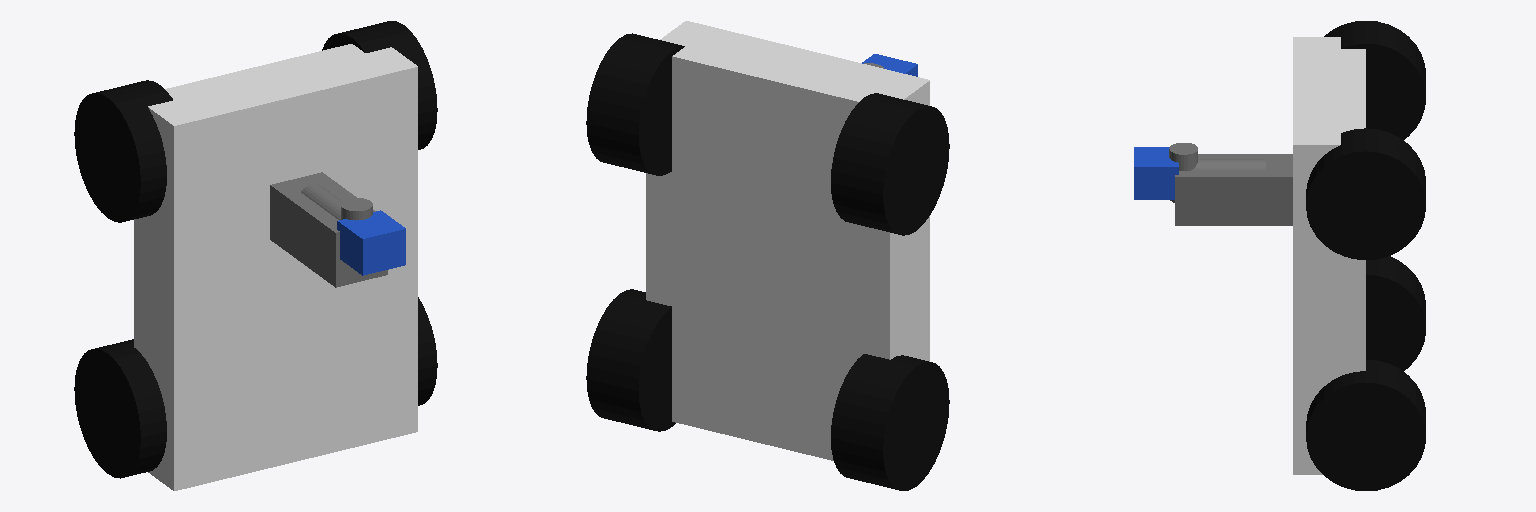
The robot description file, URDF, robot "picar_tracking":
<?xml version="1.0"?>
<!--
  picar_tracking.urdf  (V3)
  URDF for live RViz visualization.  Root frame is 'car_base', published by
  tf_bridge as 'world -> car_base'.  Pan and tilt are revolute joints; their
  positions come from /joint_states published by tf_bridge each frame.

  Coordinate convention (all frames, including car_base):
    +X = image right
    +Y = image down  (OpenCV / pupil-apriltags camera convention)
    +Z = optical axis (forward, toward tags)

  Physical kinematic chain (parent -> child):
    car_base (chassis level)
      -> pan_joint  (revolute, Y-axis, yaw / pan)    height ~6 cm above chassis
      -> tilt_joint (revolute, X-axis, pitch / tilt)  height ~2 cm above pan
      -> camera     (fixed, camera optical frame)      height ~1.5 cm above tilt

  Joint offsets are approximate.  Each is marked with TUNE and should be
  verified against physical measurements and/or compared with RViz after a
  live-pan test (car_base world position should remain stable as servos move).
-->
<robot name="picar_tracking">

  <material name="picar_white">
    <color rgba="0.9 0.9 0.9 1.0"/>
  </material>
  <material name="picar_black">
    <color rgba="0.1 0.1 0.1 1.0"/>
  </material>
  <material name="picar_gray">
    <color rgba="0.5 0.5 0.5 1.0"/>
  </material>
  <material name="picar_blue">
    <color rgba="0.2 0.4 0.85 0.85"/>
  </material>

  <!-- ROOT: car body frame — published by tf_bridge as 'world -> car_base'. -->
  <!-- No visual here; chassis box is a separate child link.                 -->
  <link name="car_base"/>

  <!-- Pan servo link — visualised as a small horizontal cylinder -->
  <link name="pan_link">
    <visual>
      <origin xyz="0 0 0" rpy="1.5708 0 0"/>
      <geometry>
        <cylinder length="0.05" radius="0.008"/>
      </geometry>
      <material name="picar_gray"/>
    </visual>
  </link>
  <!--
    TUNE: pan servo is approximately 6 cm above car_base (-Y = up in camera
    convention).  Adjust xyz y-value after visual inspection in RViz.
  -->
  <joint name="pan_joint" type="revolute">
    <parent link="car_base"/>
    <child link="pan_link"/>
    <origin xyz="0.0 -0.060 0.0" rpy="0 0 0"/>
    <axis xyz="0 1 0"/>
    <limit lower="-1.5708" upper="1.5708" effort="1.0" velocity="1.0"/>
  </joint>

  <!-- Tilt servo link — visualised as a small vertical cylinder -->
  <link name="tilt_link">
    <visual>
      <origin xyz="0 0 0" rpy="0 0 0"/>
      <geometry>
        <cylinder length="0.03" radius="0.008"/>
      </geometry>
      <material name="picar_gray"/>
    </visual>
  </link>
  <!-- TUNE: tilt servo is approximately 2 cm above pan_link. -->
  <joint name="tilt_joint" type="revolute">
    <parent link="pan_link"/>
    <child link="tilt_link"/>
    <origin xyz="0.0 -0.020 0.0" rpy="0 0 0"/>
    <axis xyz="1 0 0"/>
    <limit lower="-0.6109" upper="0.6109" effort="1.0" velocity="1.0"/>
  </joint>

  <!-- Camera optical frame — matches tf_bridge 'camera' TF convention.      -->
  <!-- Small blue box at the camera lens position.                            -->
  <link name="camera">
    <visual>
      <origin xyz="0 0 0" rpy="0 0 0"/>
      <geometry>
        <box size="0.025 0.025 0.02"/>
      </geometry>
      <material name="picar_blue"/>
    </visual>
  </link>
  <!-- TUNE: camera lens is approximately 1.5 cm above tilt_link. -->
  <joint name="camera_optical_joint" type="fixed">
    <parent link="tilt_link"/>
    <child link="camera"/>
    <origin xyz="0.0 -0.015 0.0" rpy="0 0 0"/>
  </joint>

  <!-- Camera pan/tilt mount column — purely visual, child of camera. -->
  <link name="camera_mount">
    <visual>
      <origin xyz="0 0 0" rpy="0 0 0"/>
      <geometry>
        <box size="0.03 0.07 0.03"/>
      </geometry>
      <material name="picar_gray"/>
    </visual>
  </link>
  <joint name="camera_to_mount" type="fixed">
    <parent link="camera"/>
    <child link="camera_mount"/>
    <!-- column is below (+Y=down) and slightly behind (-Z) the camera lens -->
    <origin xyz="0.0 0.045 -0.01" rpy="0 0 0"/>
  </joint>

  <!-- Car chassis — 14 cm wide, 4 cm tall, 20 cm long (camera convention). -->
  <link name="base_link">
    <visual>
      <origin xyz="0 0 0" rpy="0 0 0"/>
      <geometry>
        <box size="0.14 0.04 0.20"/>
      </geometry>
      <material name="picar_white"/>
    </visual>
  </link>
  <!--
    TUNE: chassis centre is 5 cm behind car_base along the optical axis (-Z
    offset).  The Y offset keeps chassis box at approximately car_base height
    (no vertical offset since car_base is defined at chassis-top level).
    Adjust after visual inspection in RViz.
  -->
  <joint name="car_base_to_chassis" type="fixed">
    <parent link="car_base"/>
    <child link="base_link"/>
    <origin xyz="0.0 0.0 -0.05" rpy="0 0 0"/>
  </joint>

  <!-- Front left wheel -->
  <link name="front_left_wheel">
    <visual>
      <origin xyz="0 0 0" rpy="0 1.5708 0"/>
      <geometry>
        <cylinder length="0.03" radius="0.033"/>
      </geometry>
      <material name="picar_black"/>
    </visual>
  </link>
  <joint name="chassis_to_fl_wheel" type="fixed">
    <parent link="base_link"/>
    <child link="front_left_wheel"/>
    <origin xyz="-0.07 0.02 0.07" rpy="0 0 0"/>
  </joint>

  <!-- Front right wheel -->
  <link name="front_right_wheel">
    <visual>
      <origin xyz="0 0 0" rpy="0 1.5708 0"/>
      <geometry>
        <cylinder length="0.03" radius="0.033"/>
      </geometry>
      <material name="picar_black"/>
    </visual>
  </link>
  <joint name="chassis_to_fr_wheel" type="fixed">
    <parent link="base_link"/>
    <child link="front_right_wheel"/>
    <origin xyz="0.07 0.02 0.07" rpy="0 0 0"/>
  </joint>

  <!-- Rear left wheel -->
  <link name="rear_left_wheel">
    <visual>
      <origin xyz="0 0 0" rpy="0 1.5708 0"/>
      <geometry>
        <cylinder length="0.03" radius="0.033"/>
      </geometry>
      <material name="picar_black"/>
    </visual>
  </link>
  <joint name="chassis_to_rl_wheel" type="fixed">
    <parent link="base_link"/>
    <child link="rear_left_wheel"/>
    <origin xyz="-0.07 0.02 -0.07" rpy="0 0 0"/>
  </joint>

  <!-- Rear right wheel -->
  <link name="rear_right_wheel">
    <visual>
      <origin xyz="0 0 0" rpy="0 1.5708 0"/>
      <geometry>
        <cylinder length="0.03" radius="0.033"/>
      </geometry>
      <material name="picar_black"/>
    </visual>
  </link>
  <joint name="chassis_to_rr_wheel" type="fixed">
    <parent link="base_link"/>
    <child link="rear_right_wheel"/>
    <origin xyz="0.07 0.02 -0.07" rpy="0 0 0"/>
  </joint>

</robot>

--- What the picture shows (computed from the rendered views, not written in the file) ---
Views: 3 orthographic renders of the robot side by side, from view 1: azimuth 30°, elevation 25°; view 2: azimuth 150°, elevation 25°; view 3: azimuth 270°, elevation 25°.
Robot: picar_tracking — 10 links, 9 joints (2 revolute, 7 fixed); root link car_base; default pose: all joints at 0.
Links seen in each view (by area): view 1: base_link, front_left_wheel, rear_left_wheel, camera_mount, front_right_wheel, camera, rear_right_wheel, pan_link, tilt_link; view 2: base_link, front_left_wheel, rear_left_wheel, front_right_wheel, rear_right_wheel, camera; view 3: base_link, front_right_wheel, rear_right_wheel, camera_mount, front_left_wheel, rear_left_wheel, camera, pan_link, tilt_link.
Link boxes in pixels (<box>): base_link: <box>134,44,417,490</box>; front_left_wheel: <box>74,80,172,222</box>; rear_left_wheel: <box>74,339,166,478</box>; camera_mount: <box>270,172,387,287</box>; front_right_wheel: <box>322,21,437,149</box>; camera: <box>337,210,405,275</box>; rear_right_wheel: <box>418,297,437,405</box>; pan_link: <box>301,184,341,219</box>; tilt_link: <box>341,198,372,220</box>; base_link: <box>646,21,929,460</box>; front_left_wheel: <box>831,93,949,235</box>; rear_left_wheel: <box>831,354,949,490</box>; front_right_wheel: <box>586,33,684,175</box>; rear_right_wheel: <box>586,289,675,431</box>; camera: <box>862,54,917,76</box>; base_link: <box>1293,37,1365,474</box>; front_right_wheel: <box>1306,128,1425,259</box>; rear_right_wheel: <box>1306,359,1425,490</box>; camera_mount: <box>1175,154,1292,225</box>; front_left_wheel: <box>1324,21,1425,139</box>; rear_left_wheel: <box>1366,256,1425,371</box>; camera: <box>1134,147,1178,199</box>; pan_link: <box>1193,159,1265,169</box>; tilt_link: <box>1169,143,1197,202</box>.
Bounding box of the posed robot: 0.17 × 0.1605 × 0.206 m (x, y, z).
Geometry: primitives only (box / cylinder / sphere), no mesh files.
